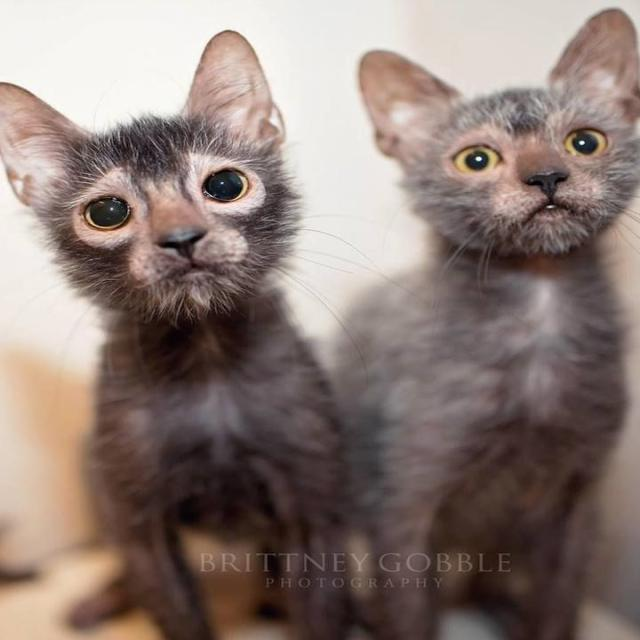Lykoi: (0, 26, 351, 640), (314, 5, 640, 640)
